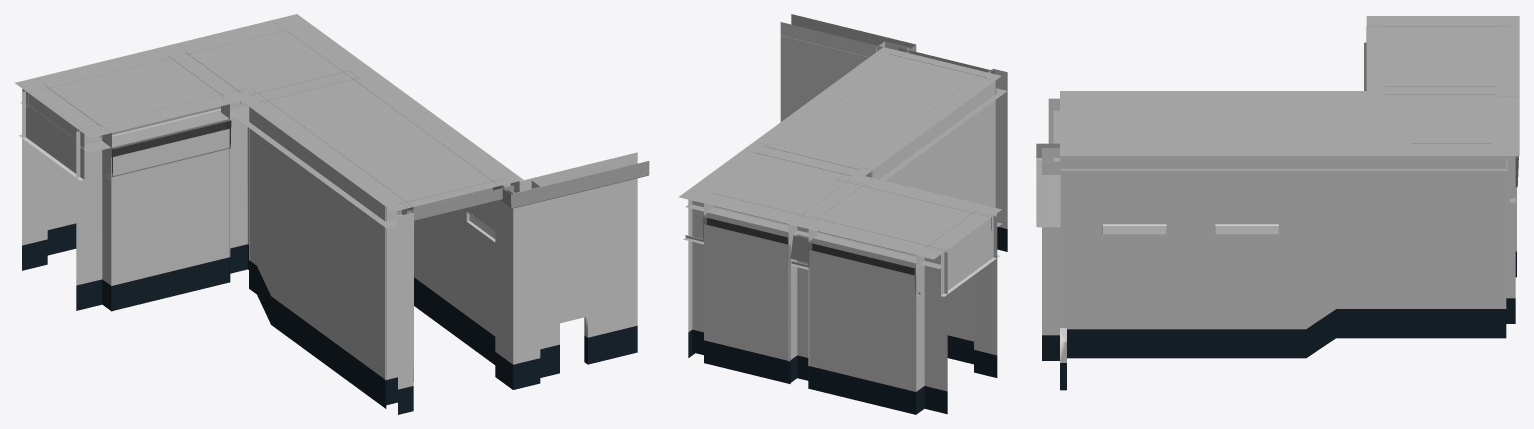
File: SM_H_Building_Tide_Corridor_04_ATLAS.fbx
3 views of the same model, side by side, from view 1: azimuth 30°, elevation 25°; view 2: azimuth 150°, elevation 25°; view 3: azimuth 270°, elevation 25° (orthographic). The views are drawn at different scales.
Visible parts, largest first — view 1: SM_H_Building_Tide_Corridor_04_ATLAS; view 2: SM_H_Building_Tide_Corridor_04_ATLAS; view 3: SM_H_Building_Tide_Corridor_04_ATLAS.
Part boxes in pixels (<box>): SM_H_Building_Tide_Corridor_04_ATLAS: <box>15,14,649,414</box>; SM_H_Building_Tide_Corridor_04_ATLAS: <box>678,14,1007,414</box>; SM_H_Building_Tide_Corridor_04_ATLAS: <box>1036,16,1519,390</box>.
Bounding box in the file's own units: 2330 × 2405 × 1125.
